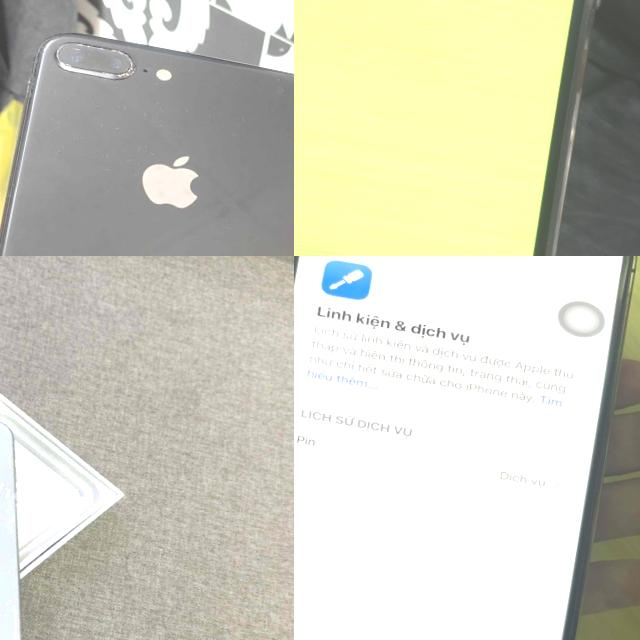gen_12_13: (294, 0, 640, 256)
gen_14: (294, 256, 640, 640)
gen_7_8: (0, 14, 294, 256)
gen_x_xs: (0, 380, 71, 640)
scratch: (22, 26, 146, 123), (137, 78, 294, 152), (23, 106, 174, 182), (264, 71, 294, 106)
screen_defect: (294, 72, 523, 175), (294, 171, 506, 256), (294, 0, 571, 55)
